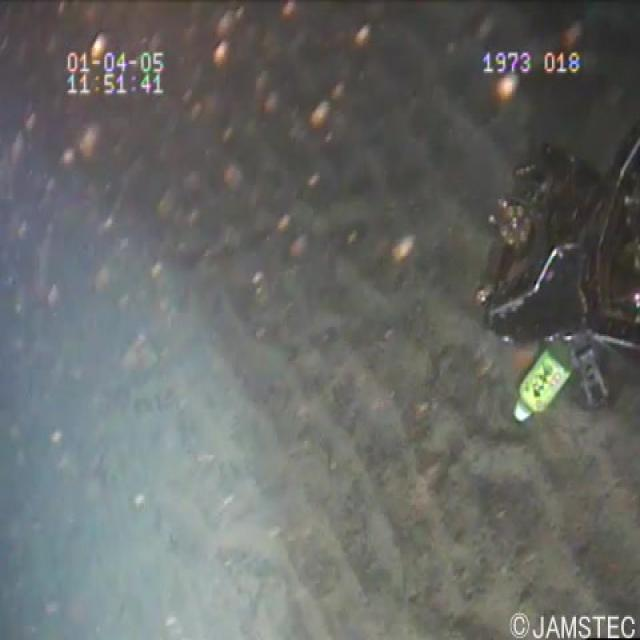plastic: (508, 342, 571, 431)
